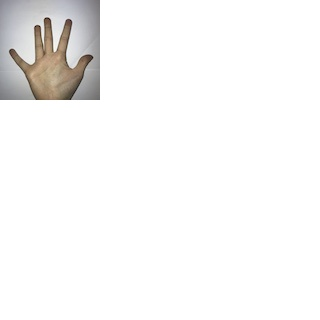paper: (6, 7, 95, 99)
